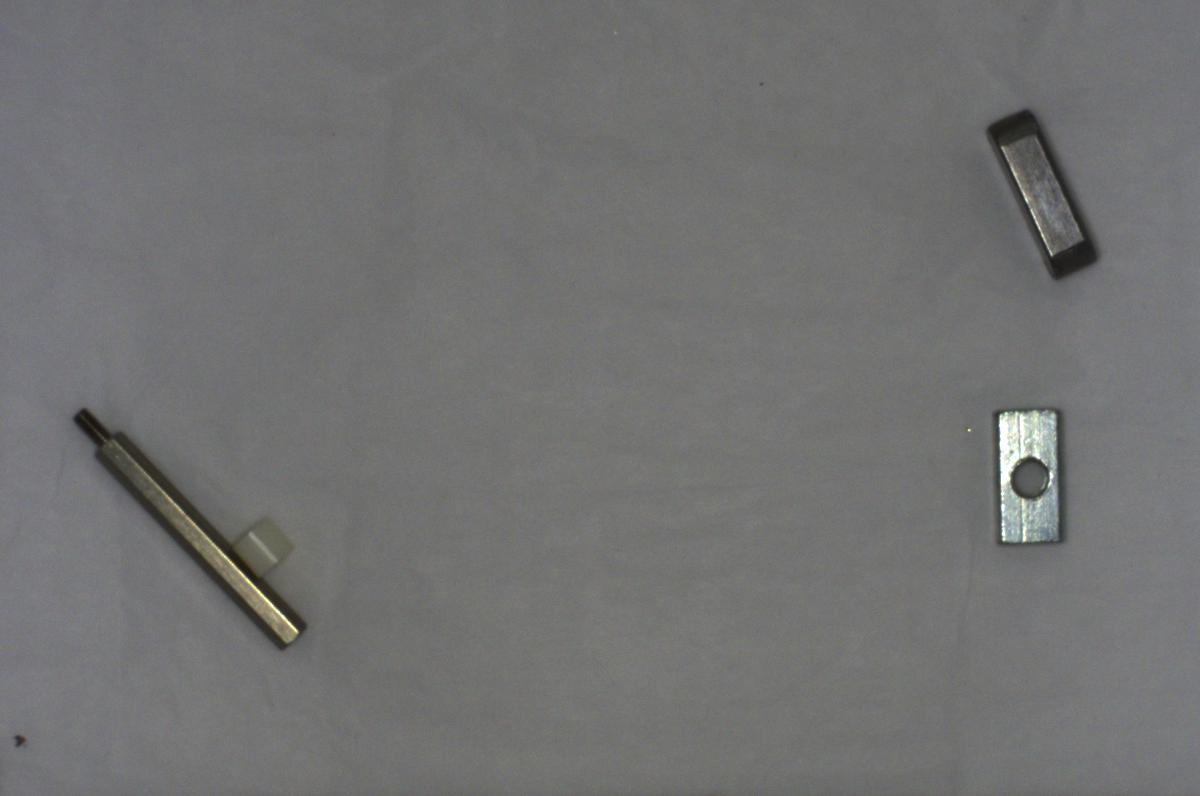Hexagonal steel column: (64, 401, 310, 658)
Keybar: (986, 99, 1095, 272)
Plastic cushion pillar: (214, 510, 288, 573)
Rectangular nut: (985, 406, 1071, 558)
